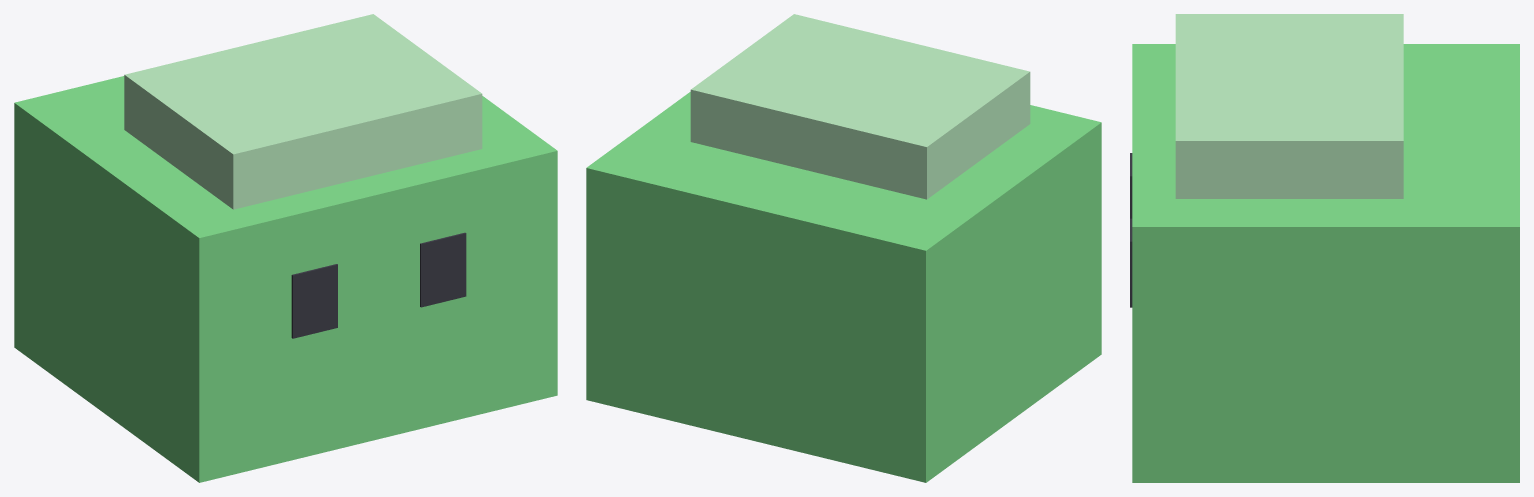
File: training_dummy.gltf
3 views of the same model, side by side, from view 1: azimuth 30°, elevation 25°; view 2: azimuth 150°, elevation 25°; view 3: azimuth 270°, elevation 25° (orthographic). The views are drawn at different scales.
Parts seen in each view (by area): view 1: blob, dome, eyeL, eyeR; view 2: blob, dome; view 3: blob, dome.
Boxes of the visible parts, x1,y1,x2,y2 form: blob: (14, 76, 557, 482); dome: (124, 14, 482, 209); eyeL: (291, 264, 337, 338); eyeR: (420, 232, 466, 307); blob: (586, 92, 1101, 482); dome: (690, 14, 1030, 199); blob: (1132, 44, 1519, 482); dome: (1175, 14, 1403, 198).
Size of the model in its own units: 0.95 by 0.76 by 0.855.
